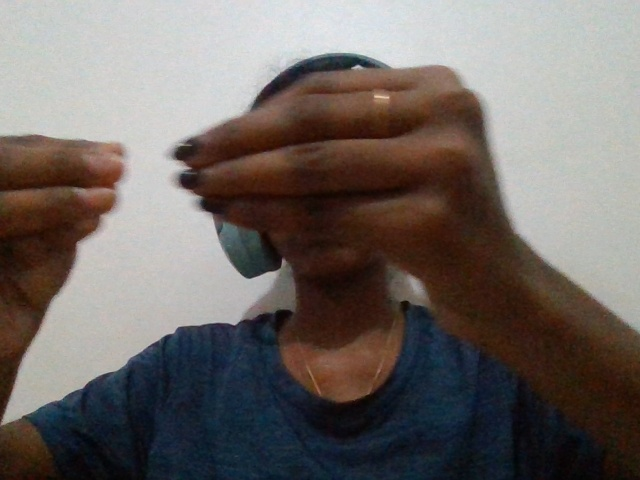More: (4, 50, 566, 442)
